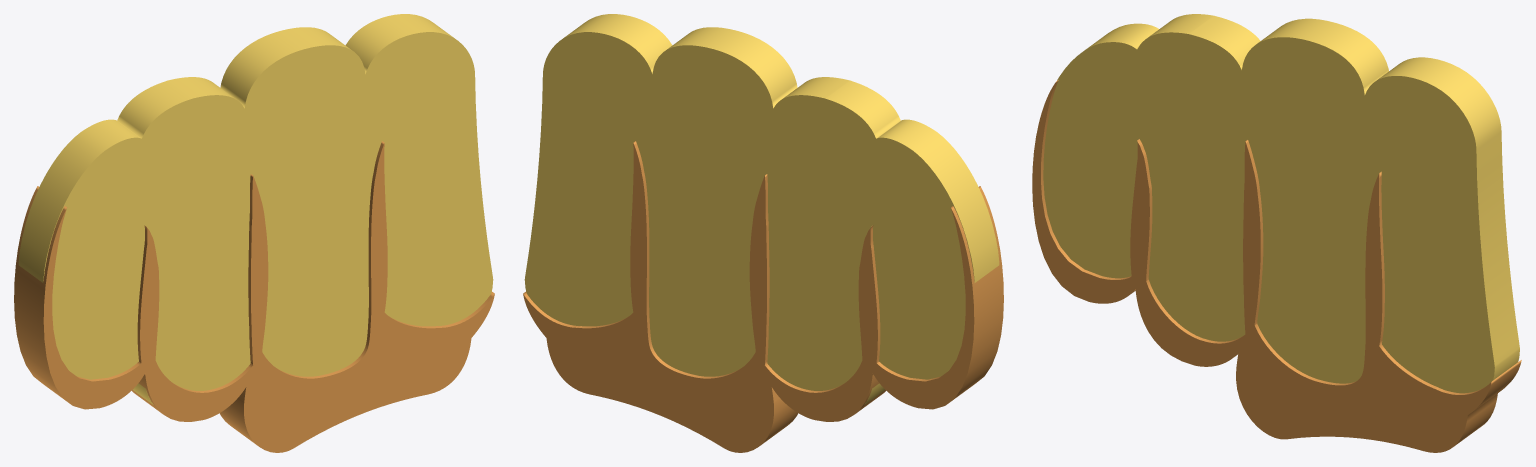
The model's file is pistol.glb.
3 renders of one model, left to right at view 1: azimuth 30°, elevation 25°; view 2: azimuth 150°, elevation 25°; view 3: azimuth 330°, elevation 25°, orthographic.
Visible parts, largest first — view 1: Curve; view 2: Curve; view 3: Curve.
Boxes of the visible parts, bbox=[...] form: Curve: bbox=[14, 14, 494, 452]; Curve: bbox=[523, 14, 1003, 452]; Curve: bbox=[1032, 14, 1521, 452].
Bounding box in the file's own units: 1.16 × 0.9741 × 0.1324.
